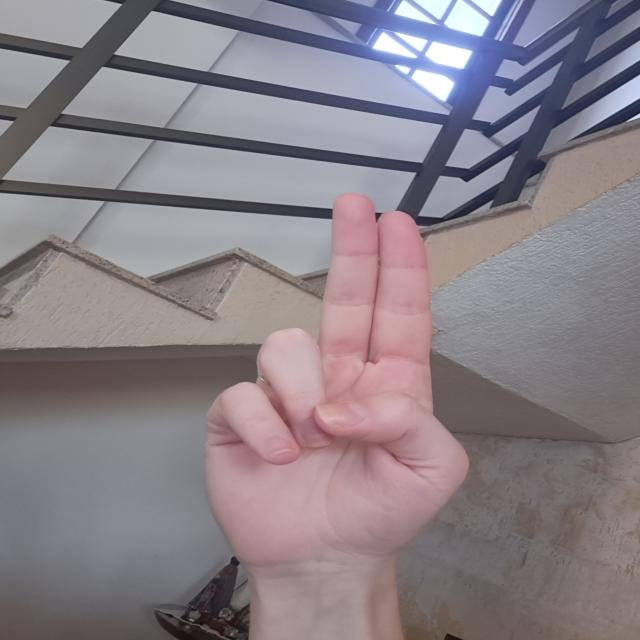U: (183, 184, 476, 567)
